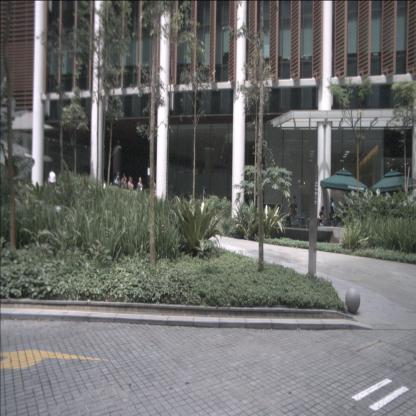human-pedestrian-adult: (290, 194, 299, 236), (48, 165, 56, 207), (285, 197, 292, 236), (318, 206, 326, 238), (149, 176, 156, 212), (329, 204, 336, 238), (137, 176, 144, 209), (330, 196, 336, 234), (200, 186, 206, 221), (114, 170, 120, 201), (121, 172, 127, 200), (129, 177, 134, 203), (123, 177, 128, 202), (128, 176, 132, 203)
